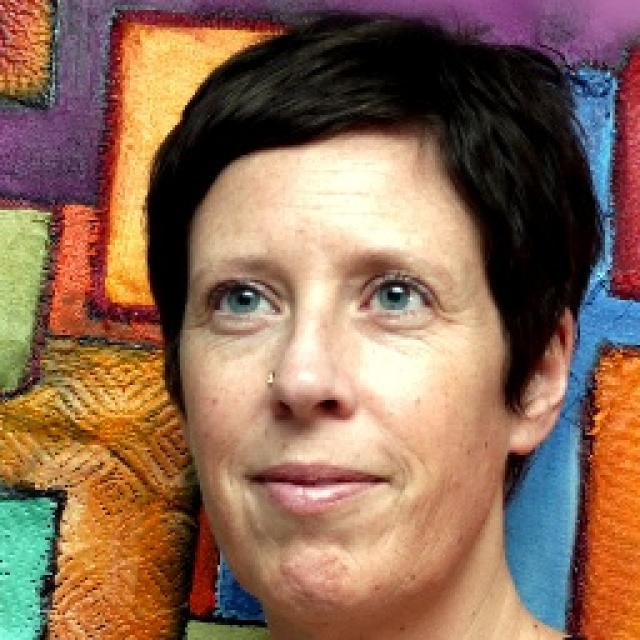earlobe: (508, 405, 549, 457)
eye: (199, 275, 283, 323), (358, 278, 442, 321)
nose: (273, 405, 357, 451)
wholeear: (508, 299, 580, 457)
